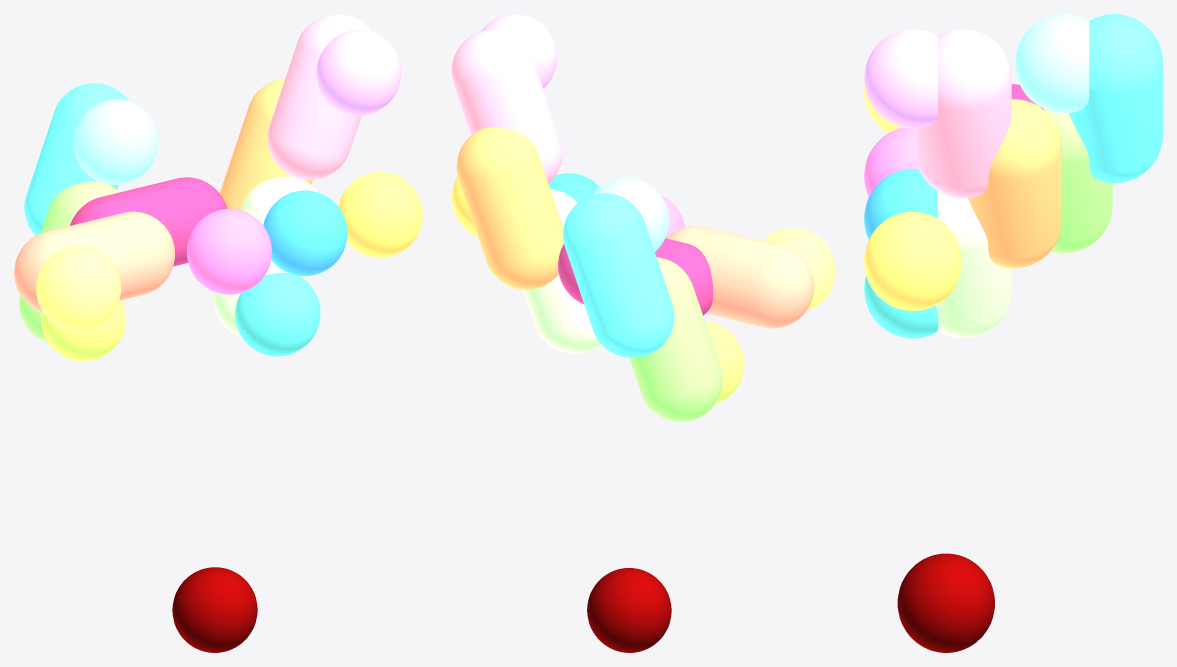
3 views of the same model, side by side, from view 1: azimuth 30°, elevation 25°; view 2: azimuth 150°, elevation 25°; view 3: azimuth 270°, elevation 25° (orthographic). The views are drawn at different scales.
Visible parts, largest first — view 1: Sphere.010; view 2: Sphere.010; view 3: Sphere.010.
Part boxes in pixels (x1=…): Sphere.010: x1=14, y1=14, x2=422, y2=652; Sphere.010: x1=451, y1=14, x2=835, y2=652; Sphere.010: x1=864, y1=14, x2=1162, y2=652.
Size of the model in its own units: 0.7421 by 1.12 by 0.4411.
